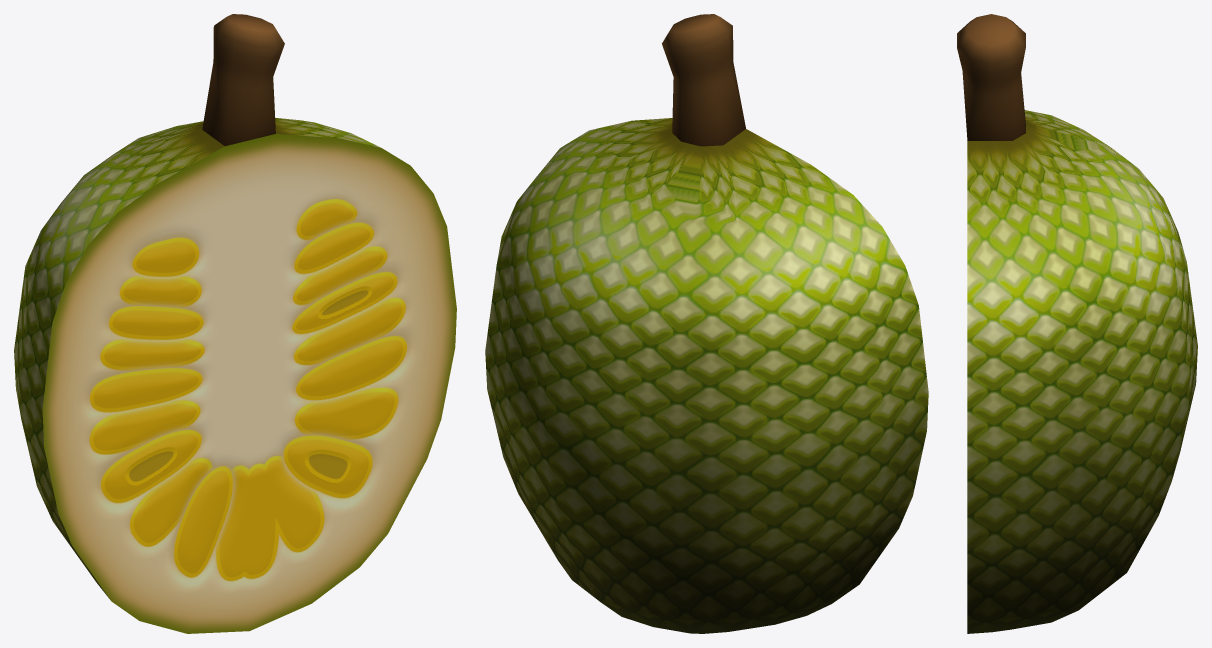
Rendered from Jackfruit_Half.fbx.
3 views of the same model, side by side, from view 1: azimuth 30°, elevation 25°; view 2: azimuth 150°, elevation 25°; view 3: azimuth 270°, elevation 25° (orthographic).
Parts seen in each view (by area): view 1: Jackfruit_Half; view 2: Jackfruit_Half; view 3: Jackfruit_Half.
Part boxes in pixels (left/top/right/bottom): Jackfruit_Half: left=14, top=14, right=456, bottom=633; Jackfruit_Half: left=485, top=14, right=928, bottom=633; Jackfruit_Half: left=957, top=14, right=1197, bottom=633.
Bounding box in the file's own units: 68.79 × 95.49 × 34.85.
